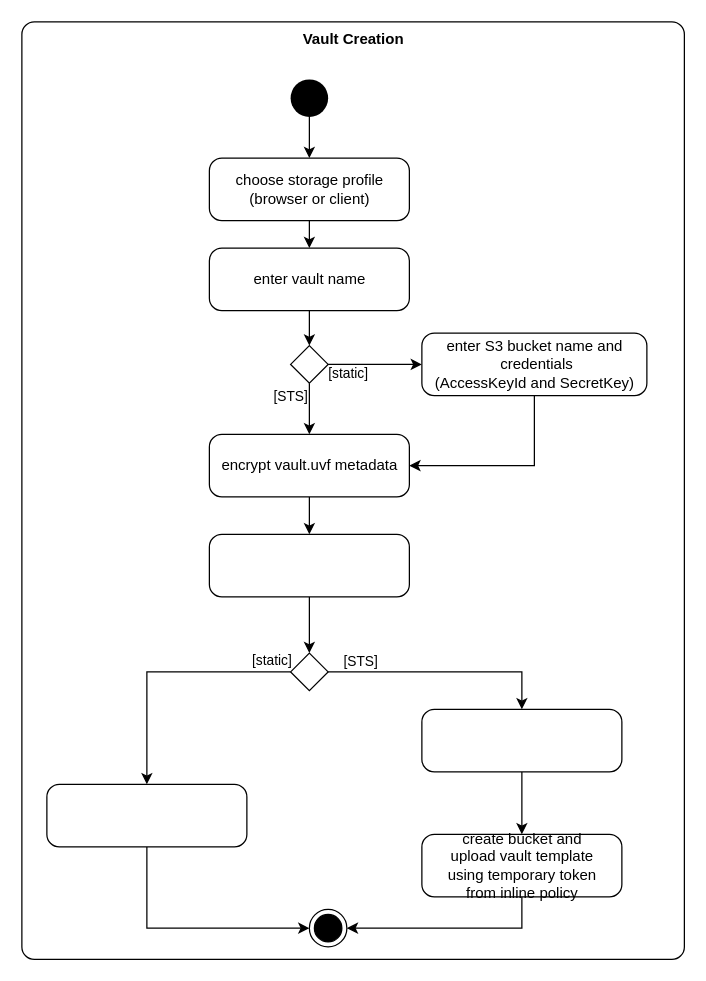
This 706x981 diagram has some shape labels left out. Each missing label, with the centre of its shape:
fetch temporary token with inline policy from AWS/MinIO STS: the point at 521,740
upload encrypted vault.uvf metadata: the point at 308,565
upload vault template to empty bucket with bucket credentials: the point at 146,815
